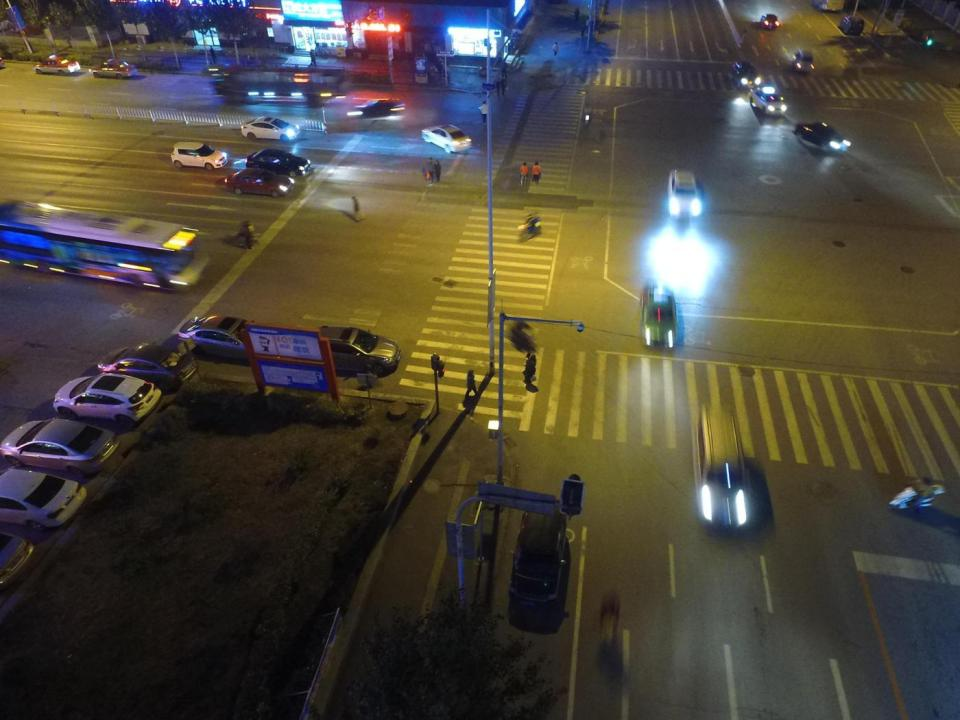bus: (0, 200, 211, 294), (216, 65, 339, 105), (223, 168, 296, 196), (245, 149, 310, 177)
car: (0, 418, 119, 477), (516, 499, 568, 610), (53, 375, 162, 427), (0, 467, 88, 524), (303, 326, 402, 375), (96, 345, 197, 393), (177, 315, 269, 365), (639, 283, 678, 349), (668, 168, 704, 219), (171, 137, 227, 169), (797, 120, 848, 154), (421, 122, 472, 154), (242, 114, 300, 142), (750, 85, 787, 115), (350, 96, 396, 118), (728, 58, 760, 89), (34, 56, 81, 75), (90, 60, 137, 78), (839, 12, 865, 37), (794, 50, 816, 74), (761, 14, 780, 31)
van: (687, 405, 751, 534)
